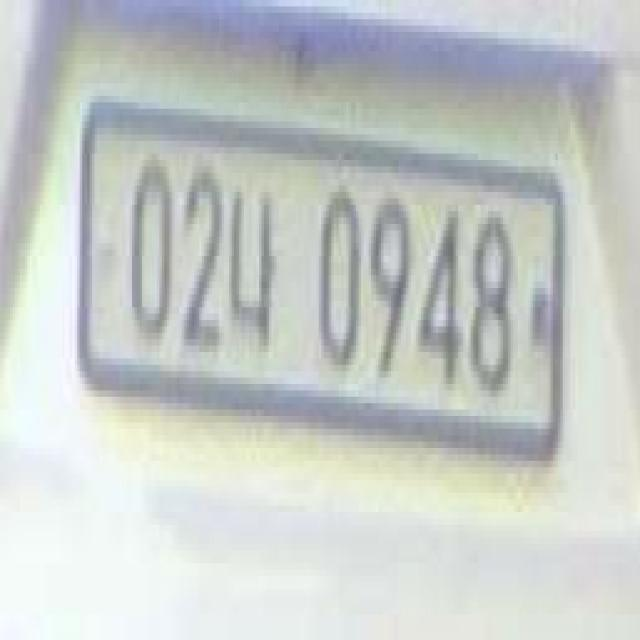illegal_plate: (79, 94, 569, 490)
